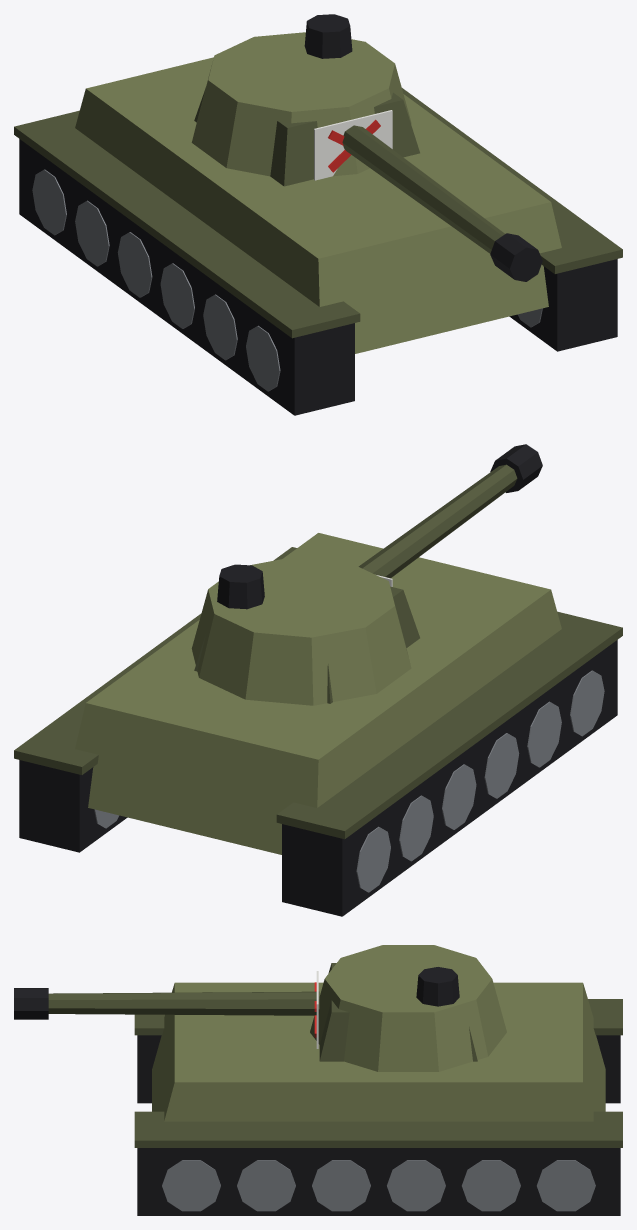
The model's file is e_tank.glb.
3 views of the same model, one above another, from view 1: azimuth 30°, elevation 25°; view 2: azimuth 150°, elevation 25°; view 3: azimuth 270°, elevation 25° (orthographic). The views are drawn at different scales.
Visible parts, largest first — view 1: tank; view 2: tank; view 3: tank.
Boxes of the visible parts, x1,y1,x2,y2 form: tank: (14, 14, 622, 415); tank: (14, 444, 622, 916); tank: (14, 945, 622, 1215).
Bounding box in the file's own units: 3.4 × 2.13 × 6.17.
